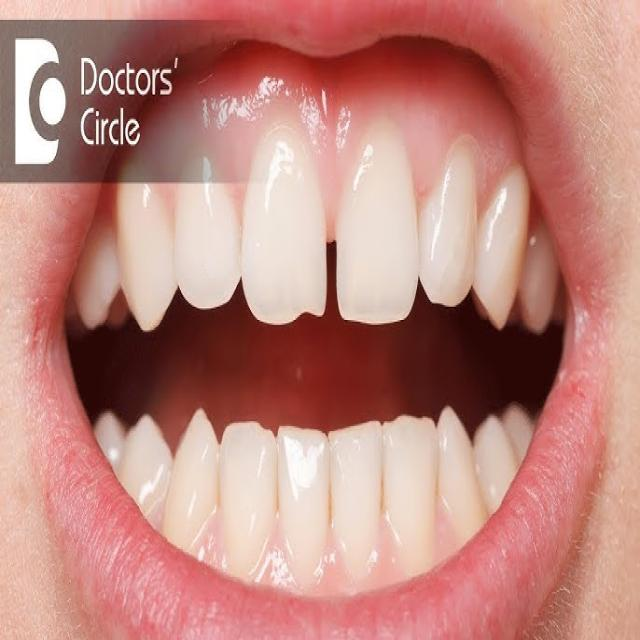tooth: (241, 131, 328, 320), (336, 130, 421, 318), (115, 169, 179, 325), (422, 133, 478, 310), (381, 412, 440, 570), (220, 424, 281, 570), (279, 426, 333, 574), (331, 424, 380, 584), (188, 166, 242, 308), (481, 153, 528, 305), (169, 416, 217, 559), (439, 411, 478, 552), (125, 418, 170, 524), (479, 424, 514, 519)
